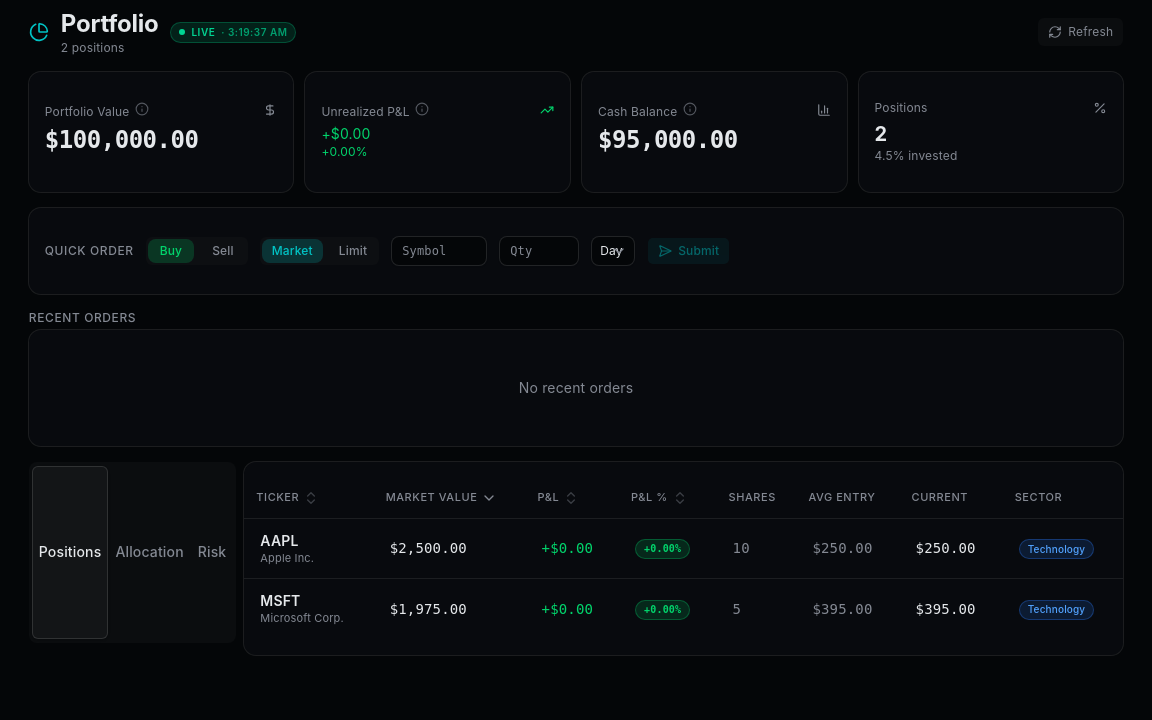
Test: PortfolioPage › displays network error guidance on fetch failure
Check: the text "Quick Order" is shown, box [45, 243, 134, 259]
In the field with placeholder "Symbol": (439, 251) [391, 236, 487, 266], type "AAPL"
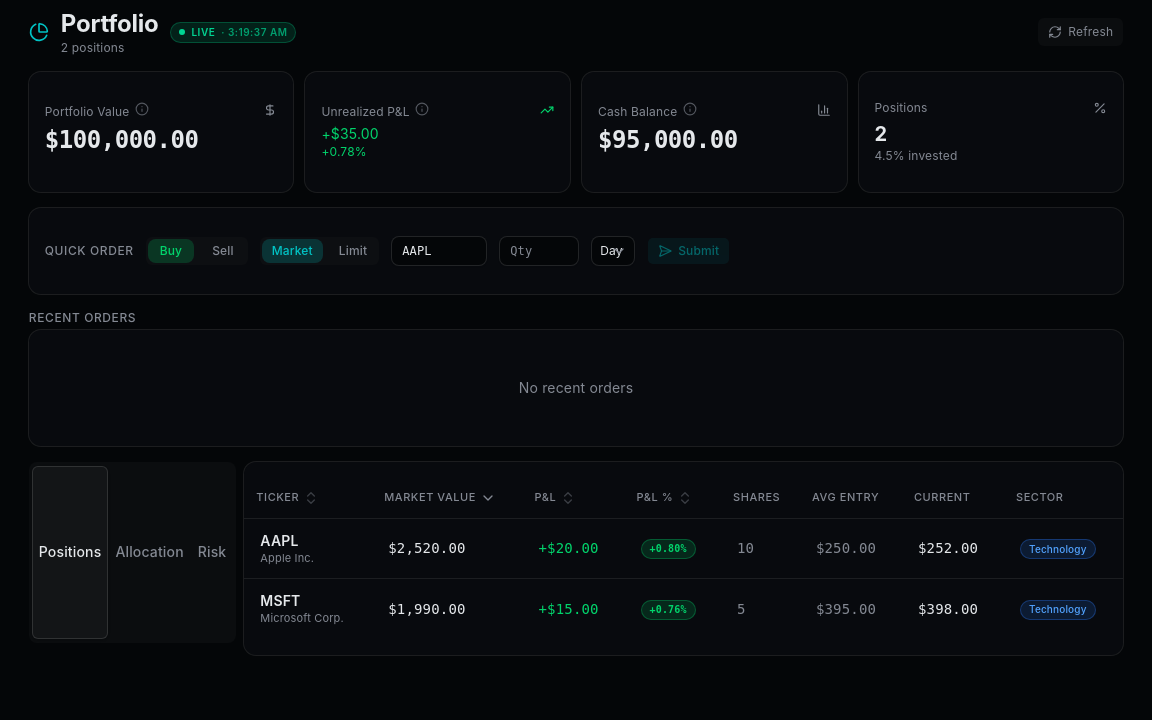
In the number field with placeholder "Qty": (539, 251) [499, 236, 579, 266], type "10"
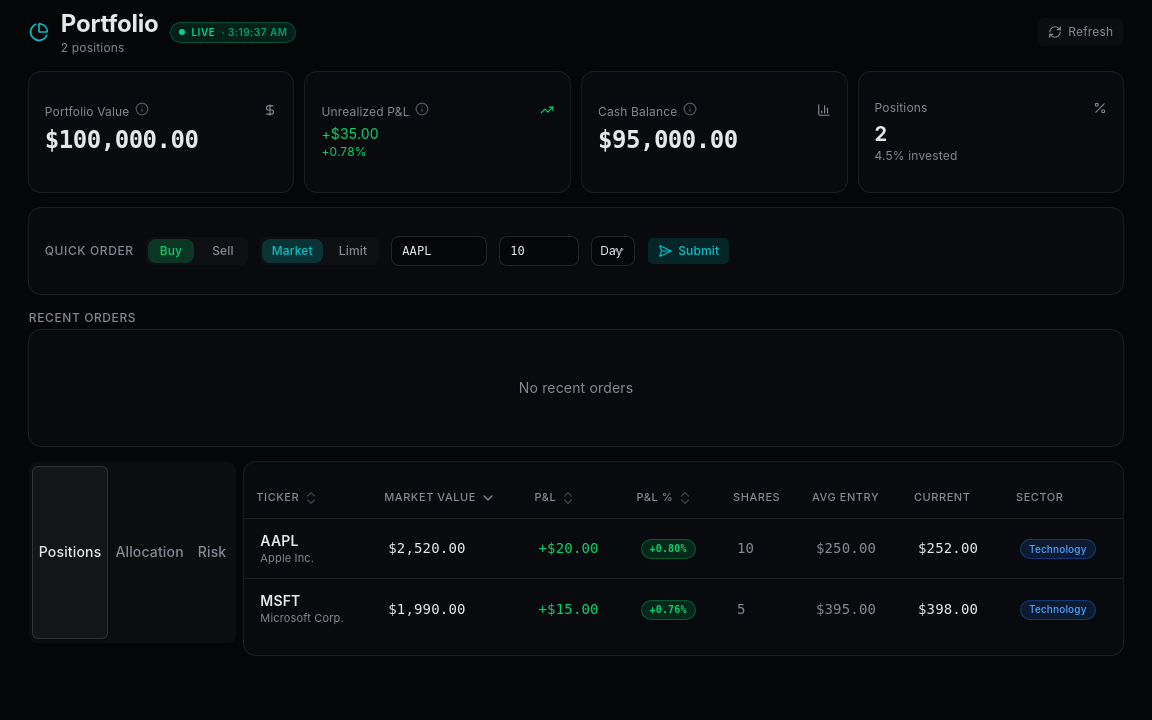
Click the button "Submit": (689, 251) [647, 237, 730, 265]
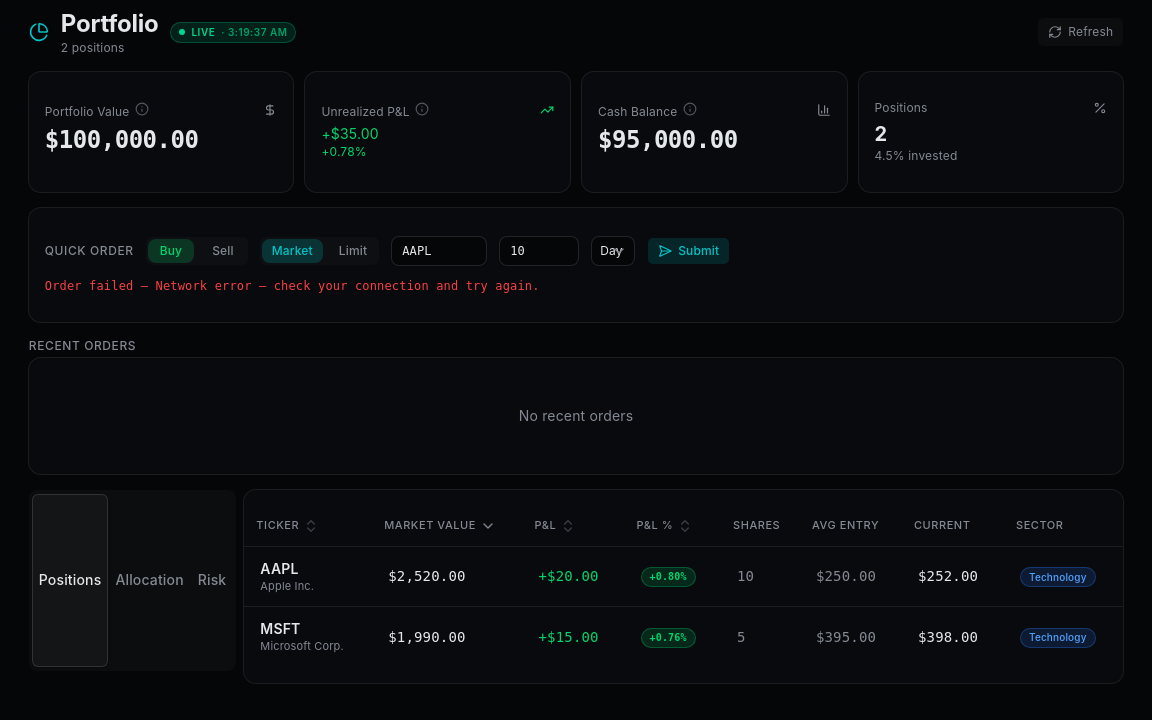
Check: the text "Network error" is shown, box [45, 279, 540, 293]
